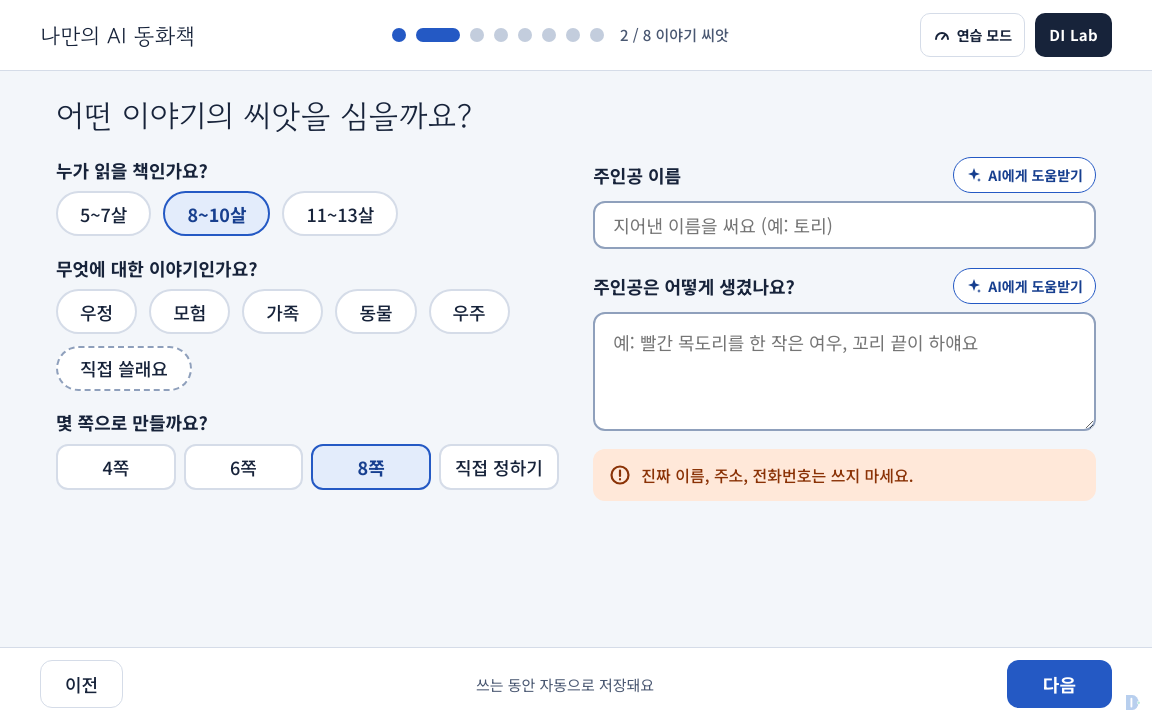
Test: SeedScreen › editing after the AI wrote hides the undo link
The image size is (1152, 720).
Step 1. Click the button "AI에게 도움받기" next to "주인공은 어떻게 생겼나요?" → (1025, 286), box top-left (953, 268), bottom-right (1096, 304)
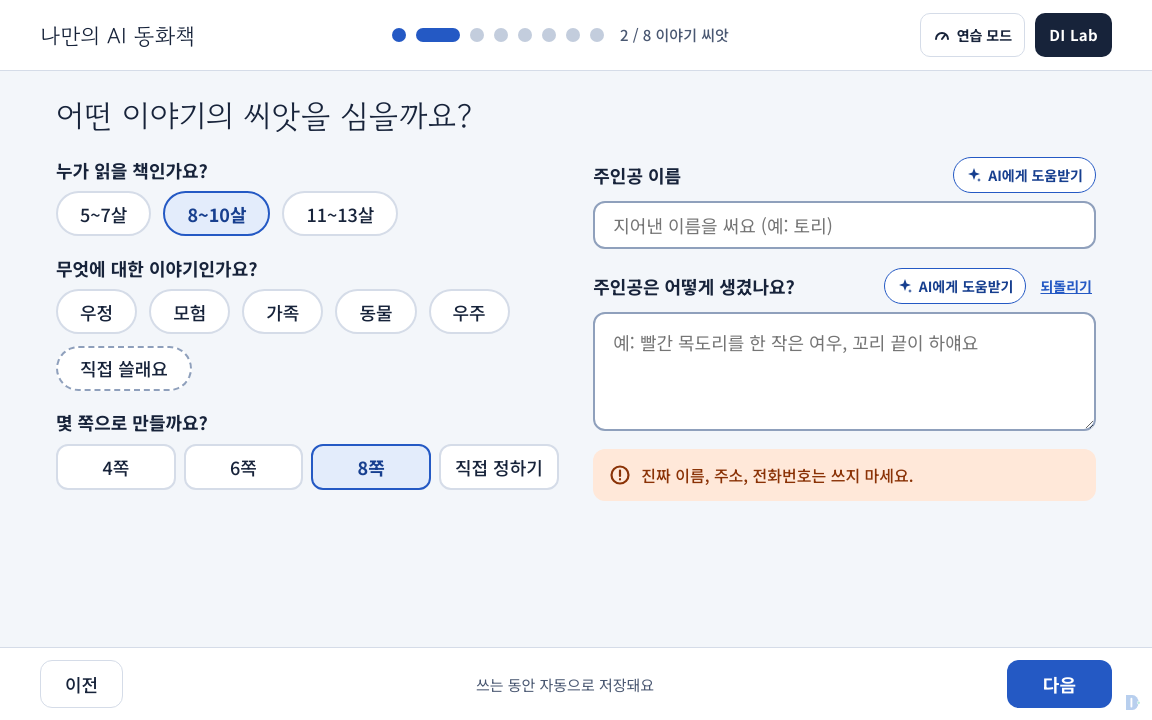
Check: the button "되돌리기" is shown, box top-left (1036, 268), bottom-right (1096, 304)
Step 2. Type "직접 고친 모습" into the text box labelled "주인공은 어떻게 생겼나요?" → (845, 371), box top-left (593, 312), bottom-right (1096, 431)
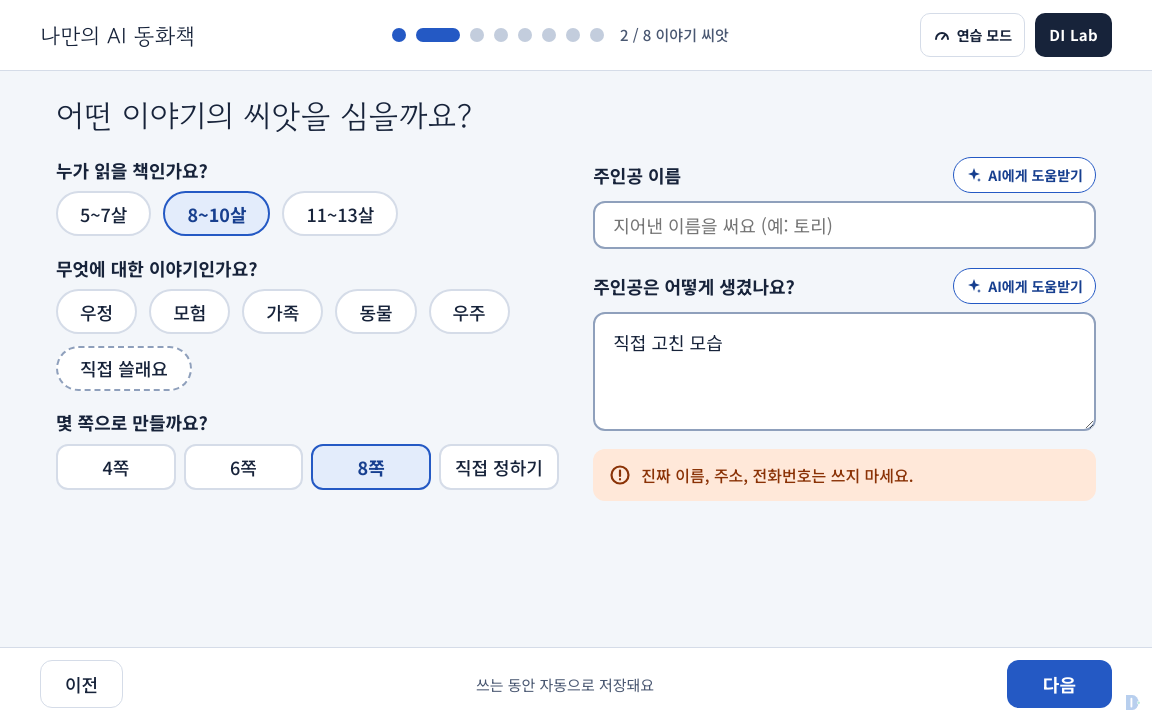
Check: the button "되돌리기" is gone
